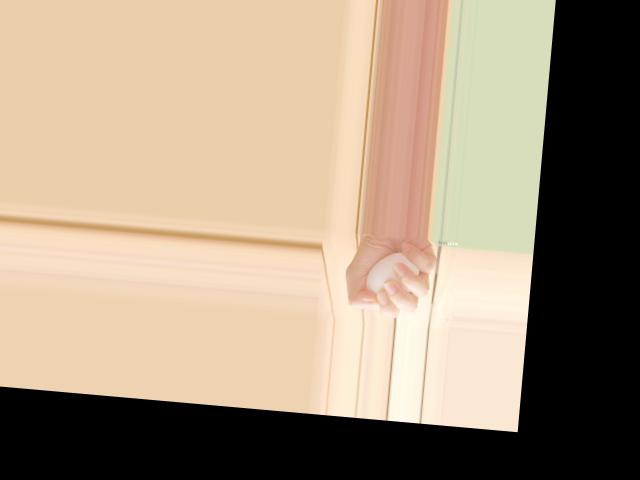egg: (364, 249, 421, 301)
